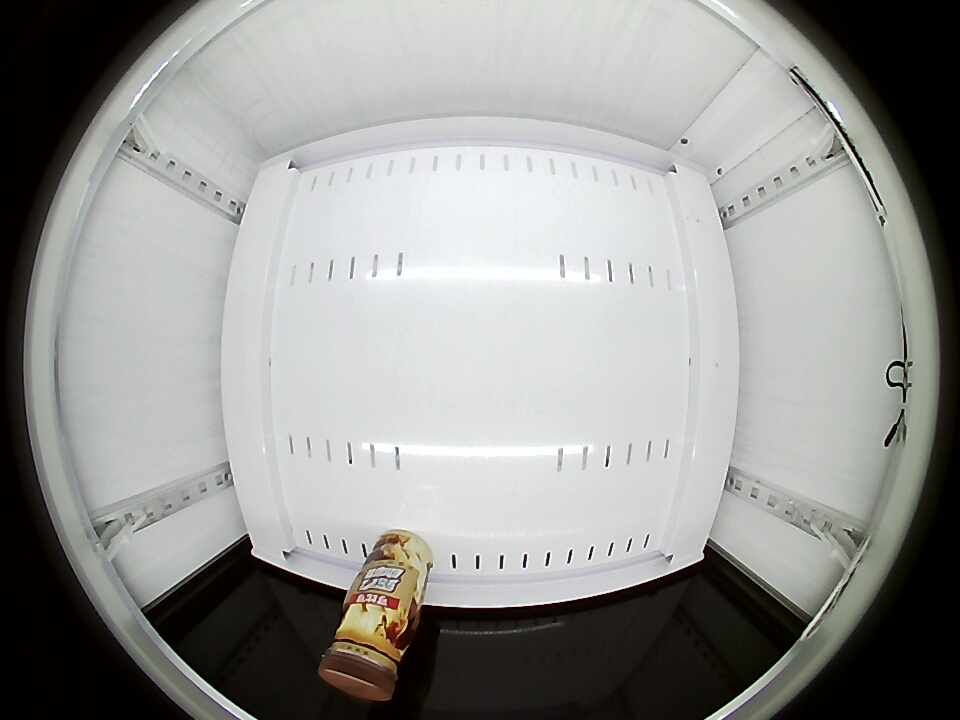lujikafei: (318, 601, 420, 702)
